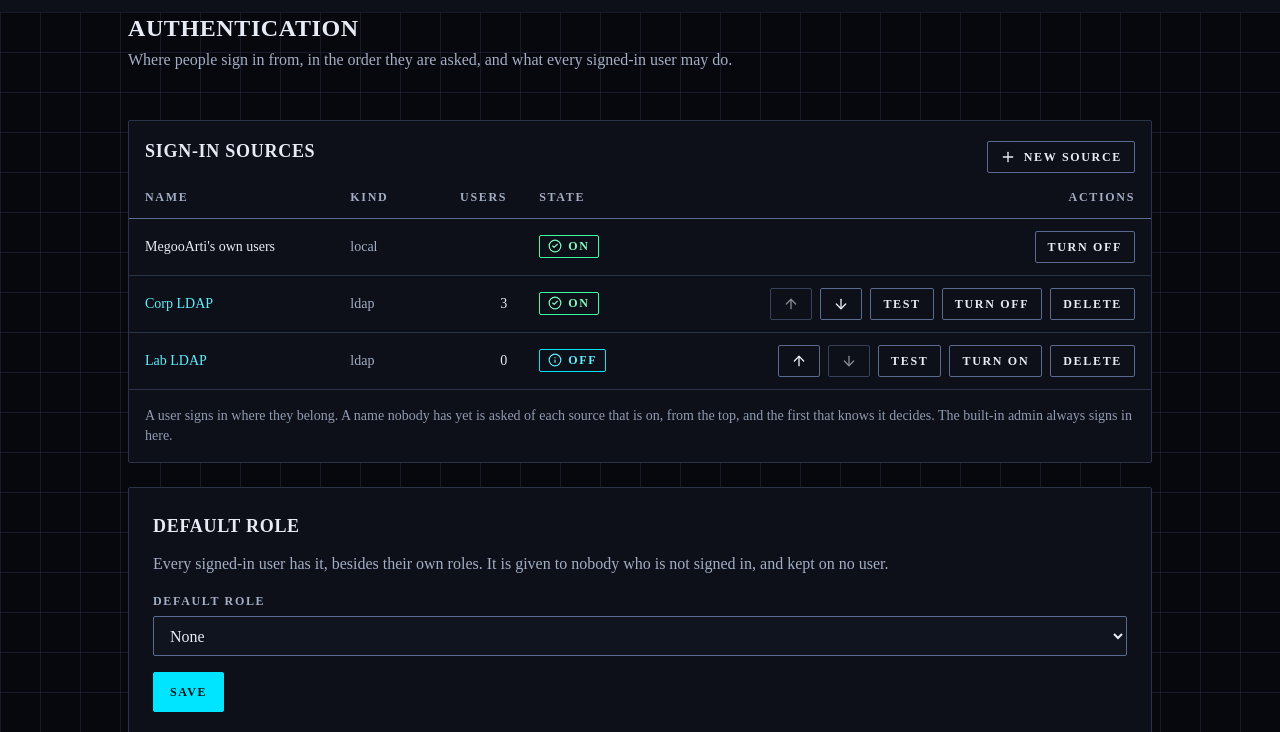
it: the sign-in sources (SEC-15) › are turned on and off with what they have, their secrets kept by the server
Click the button with aria-label "Turn on Lab LDAP" at point(996, 361), box [950,345,1042,377]
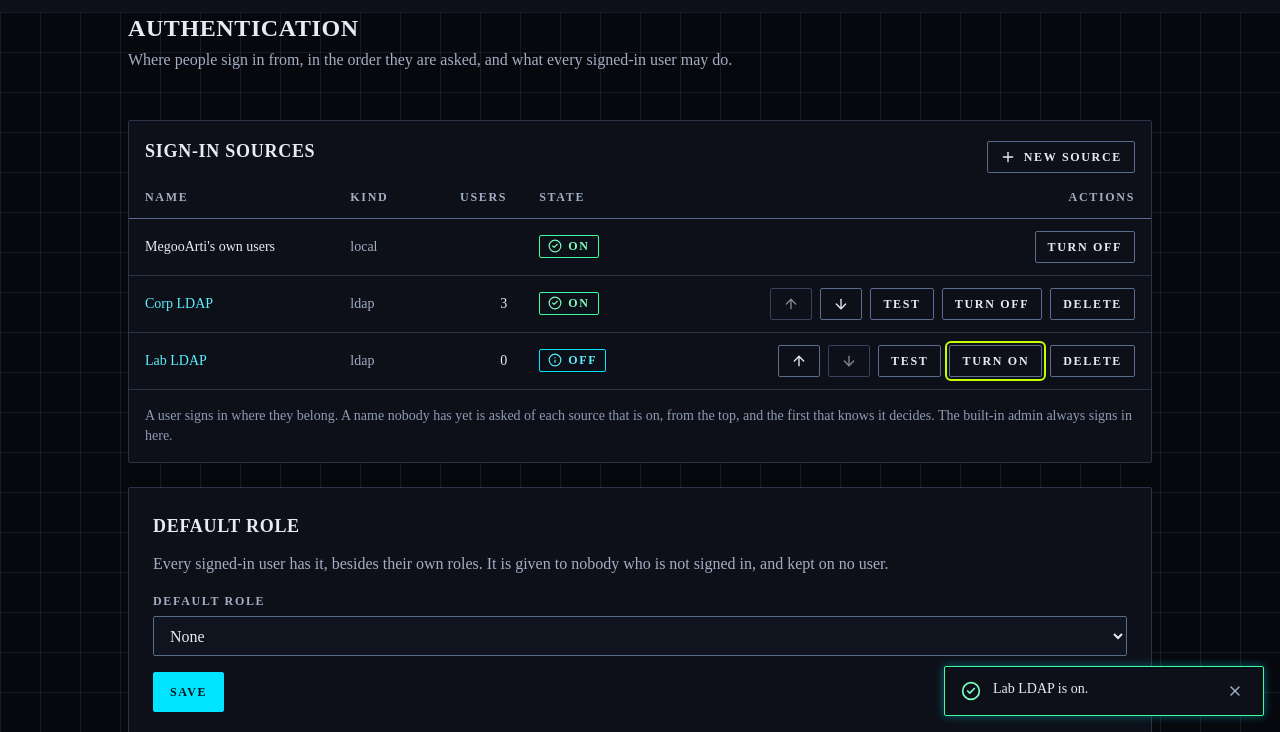
expect the element named "Notifications" reads "Lab LDAP is on.": met, box [993,681,1088,696]
